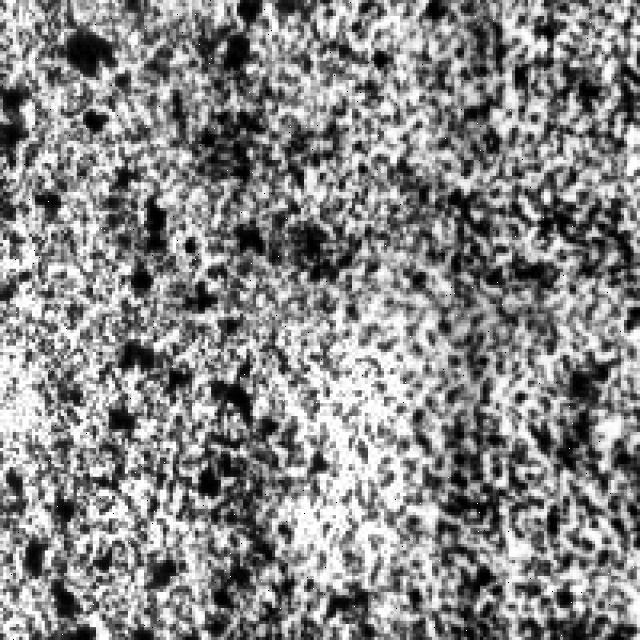Rolled_in_Scale: (166, 6, 624, 628)
